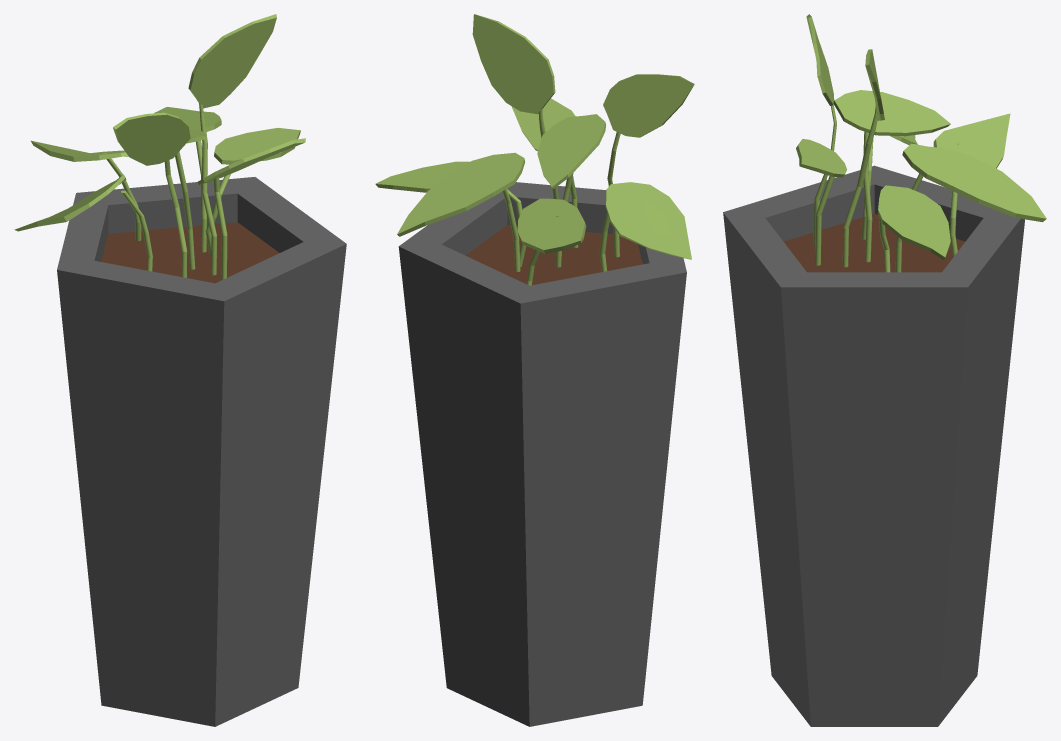
Rendered from Planta mediana 1.fbx.
3 views of the same model, side by side, from view 1: azimuth 30°, elevation 25°; view 2: azimuth 150°, elevation 25°; view 3: azimuth 270°, elevation 25° (orthographic). The views are drawn at different scales.
Parts seen in each view (by area): view 1: Cube.002; view 2: Cube.002; view 3: Cube.002.
Part boxes in pixels (<box>): Cube.002: <box>14,14,346,726</box>; Cube.002: <box>375,14,694,726</box>; Cube.002: <box>723,14,1046,726</box>.
Bounding box in the file's own units: 29.53 × 60.7 × 26.76.
Materials: 1 (1 with a texture image).
